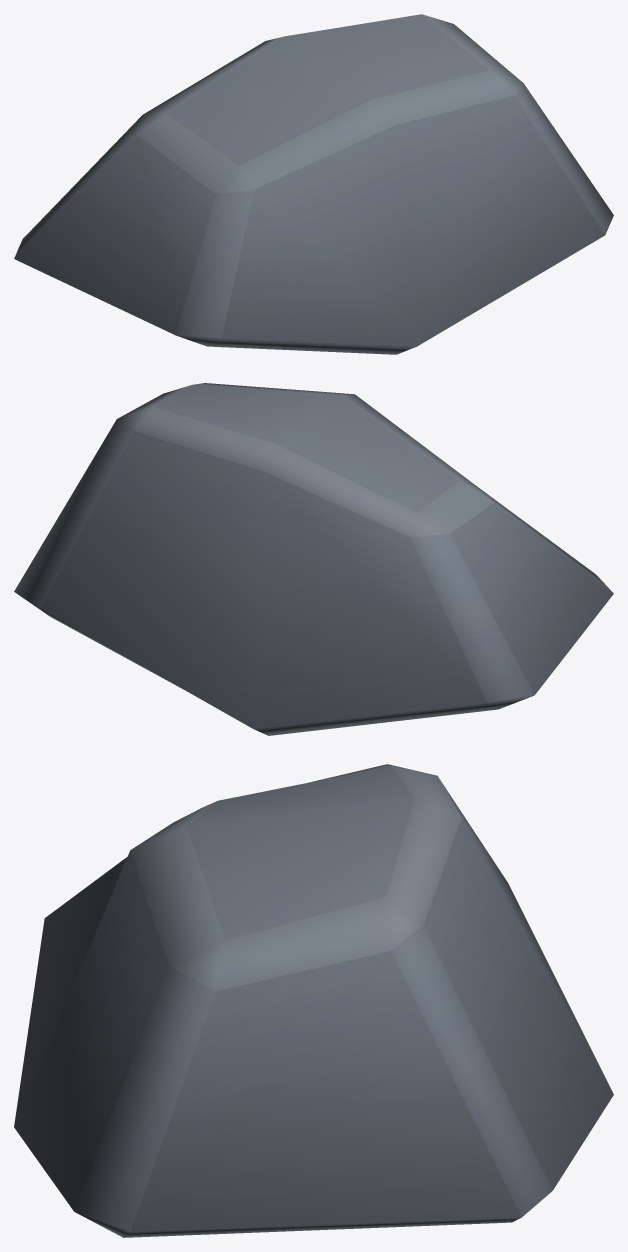
File: rock_023.fbx
3 renders of one model, top to bottom at view 1: azimuth 30°, elevation 25°; view 2: azimuth 150°, elevation 25°; view 3: azimuth 270°, elevation 25°, orthographic. The views are drawn at different scales.
Visible parts, largest first — view 1: rock_023; view 2: rock_023; view 3: rock_023.
Part boxes in pixels (left/top/right/bottom): rock_023: left=14, top=14, right=613, bottom=354; rock_023: left=14, top=383, right=613, bottom=735; rock_023: left=14, top=764, right=613, bottom=1237.
Size of the model in its own units: 253 by 114 by 174.
